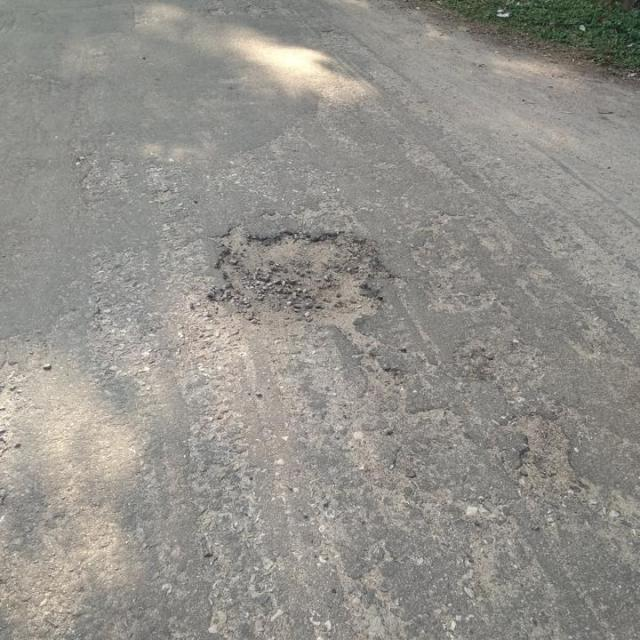medium_pothole: (202, 221, 388, 343)
minor_pothole: (509, 413, 575, 488)
